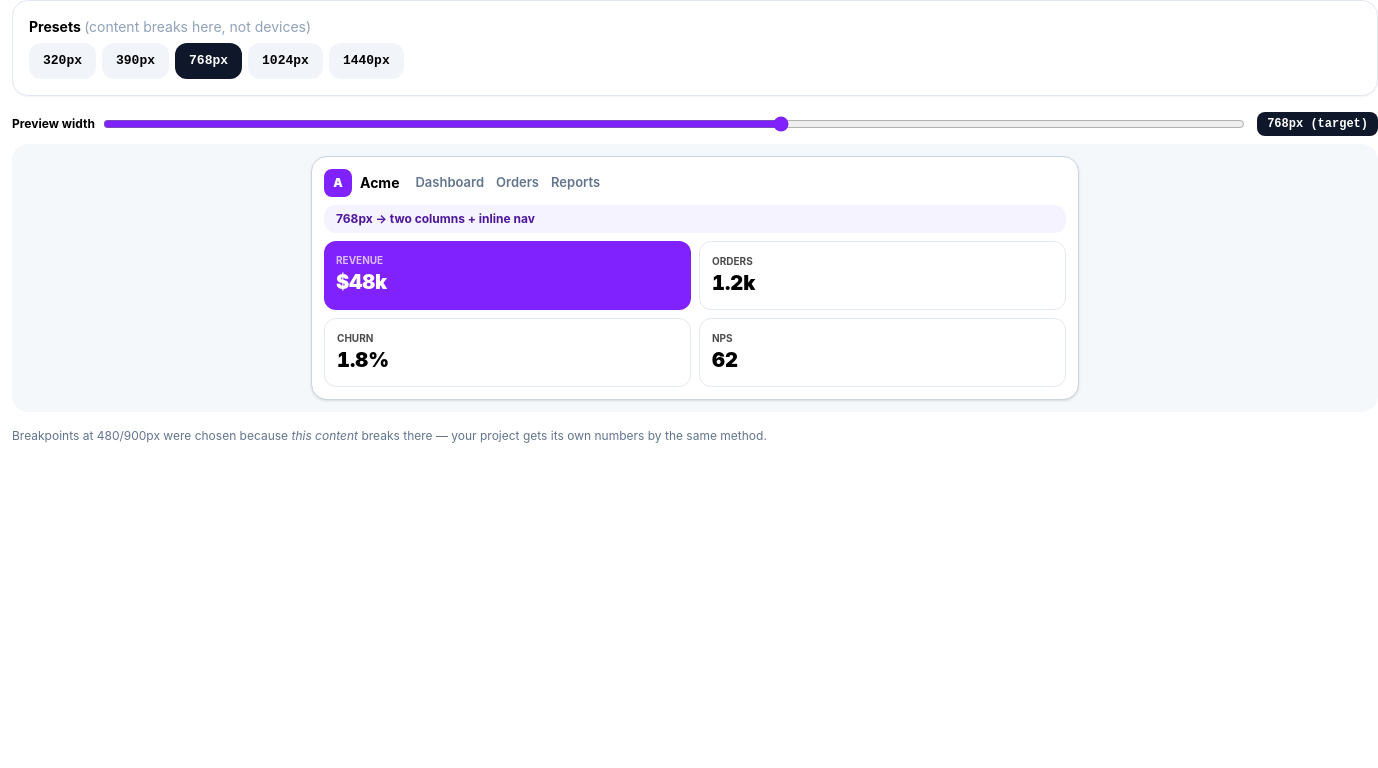
it: breakpoint logic › slider drag updates the readout
This screenshot has width=1378, height=768.
Set the slider named "Preview width width in pixels" to "390" at (262, 124), box [103, 116, 1245, 132]
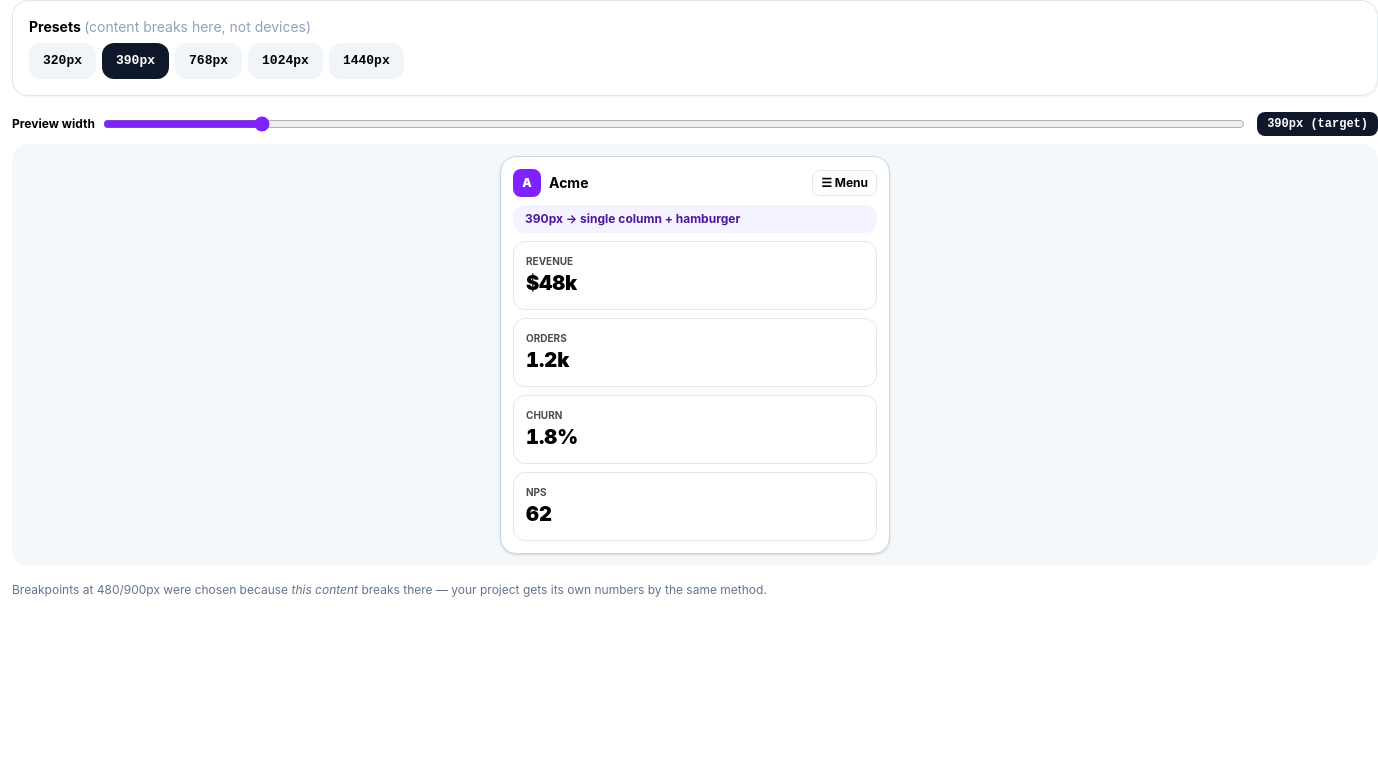
Now the text "390px → single column + hamburger" is shown, box [513, 205, 877, 233]
